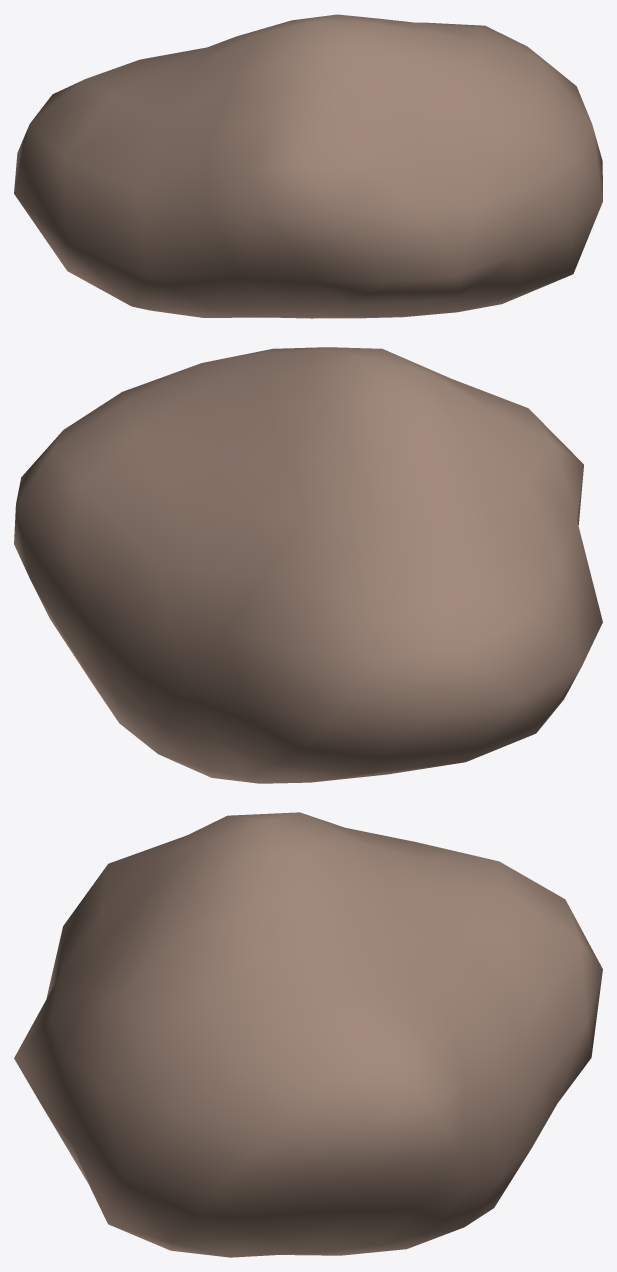
The model's file is rock.fbx.
3 renders of one model, top to bottom at view 1: azimuth 30°, elevation 25°; view 2: azimuth 150°, elevation 25°; view 3: azimuth 270°, elevation 25°, orthographic. The views are drawn at different scales.
Parts seen in each view (by area): view 1: rock; view 2: rock; view 3: rock.
Part boxes in pixels (left/top/right/bottom): rock: left=14, top=14, right=602, bottom=318; rock: left=14, top=347, right=602, bottom=783; rock: left=14, top=812, right=602, bottom=1257.
Size of the model in its own units: 304 by 189 by 272.
